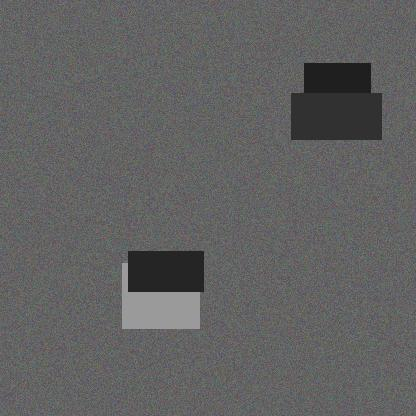empty: (132, 176, 207, 255), (117, 179, 185, 251), (181, 75, 249, 135)
occupied: (88, 213, 162, 275)
